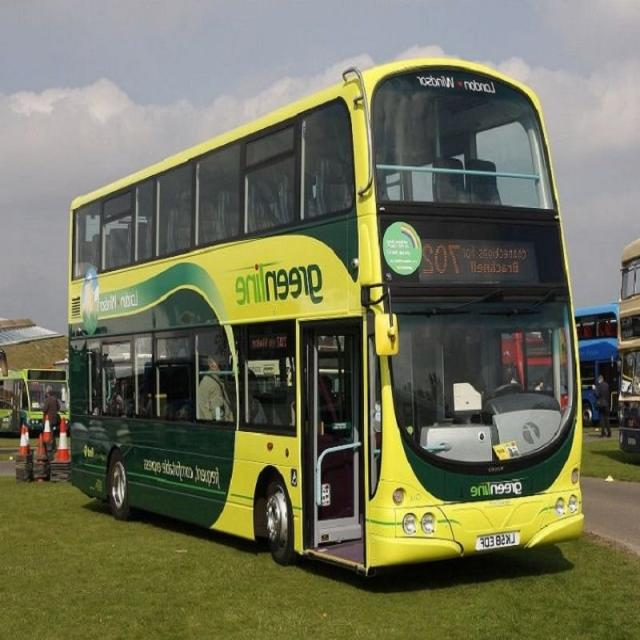Double decker: (59, 57, 589, 585)
